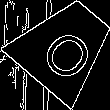O_NE: (31, 14, 98, 80)
